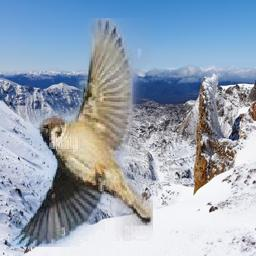Sparrow: (9, 19, 153, 248)
